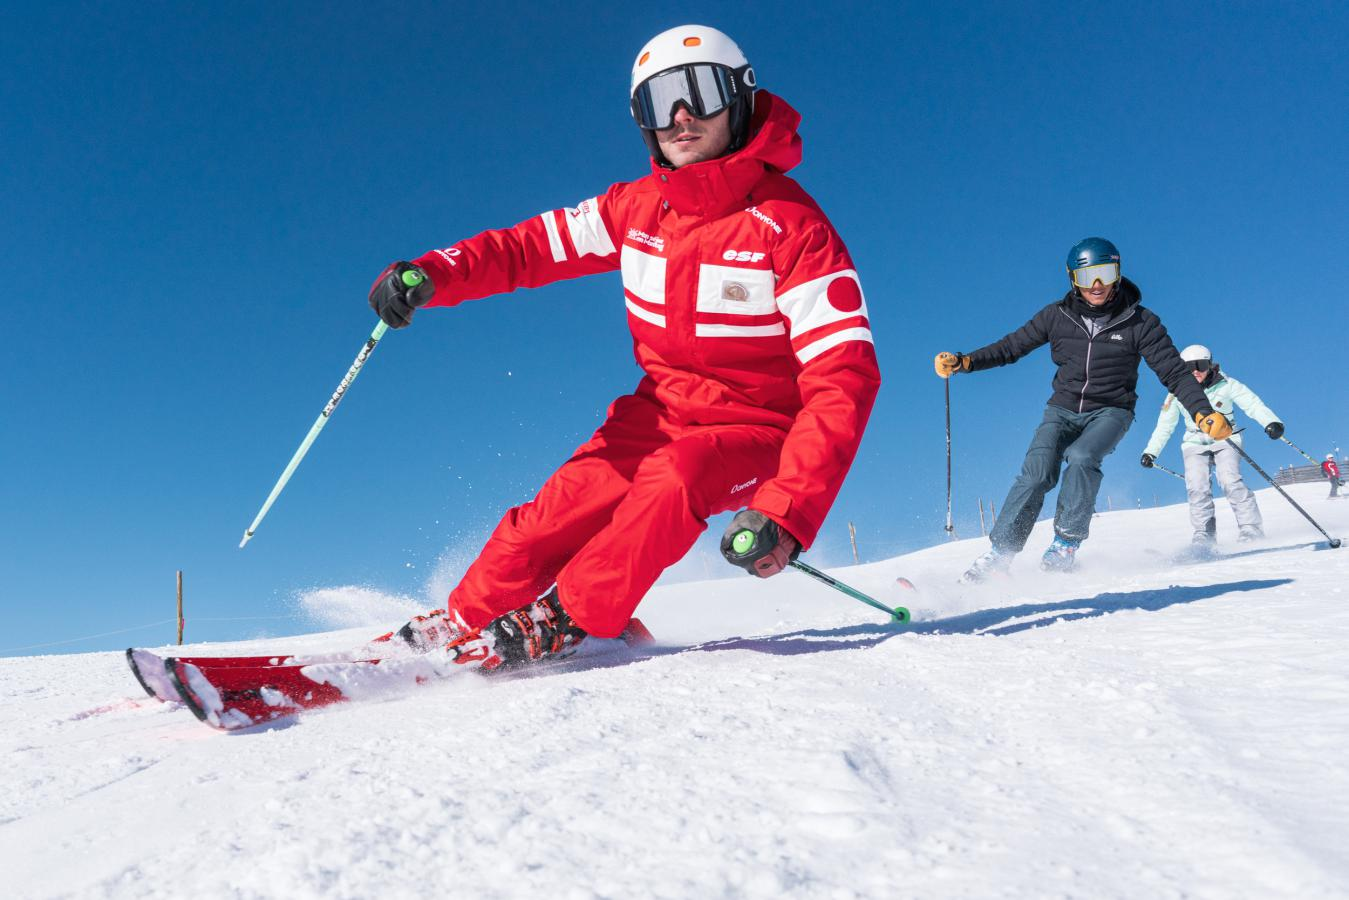skier: (142, 18, 906, 738), (884, 205, 1342, 627), (1153, 344, 1297, 582)
